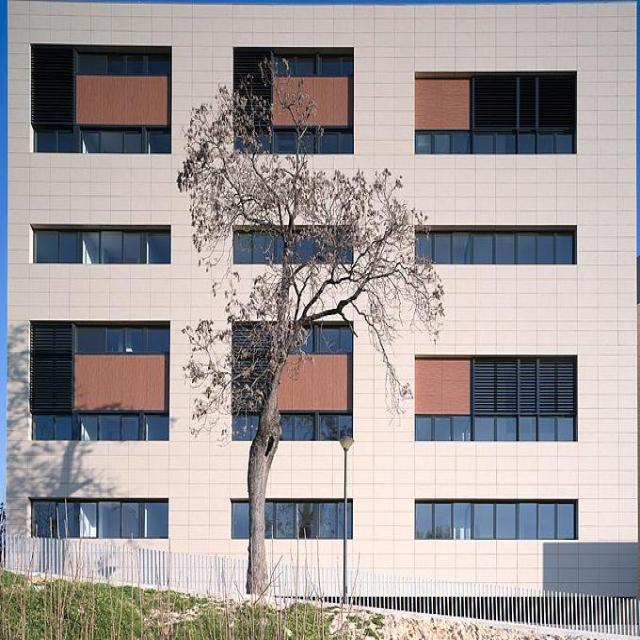Railing: (9, 541, 639, 637)
plant: (177, 68, 447, 421)
wall: (5, 6, 631, 639)
windows: (414, 502, 576, 538), (417, 232, 572, 265), (33, 226, 173, 262), (32, 500, 166, 537), (231, 502, 351, 537), (416, 129, 576, 154), (416, 417, 574, 442), (236, 228, 351, 260), (36, 414, 167, 441), (232, 411, 352, 439), (32, 132, 172, 153), (74, 327, 166, 355), (241, 128, 354, 150), (78, 53, 172, 73), (286, 327, 356, 350), (275, 57, 353, 76)
